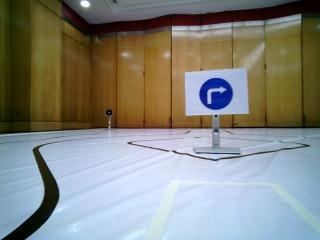right: (185, 74, 250, 116)
